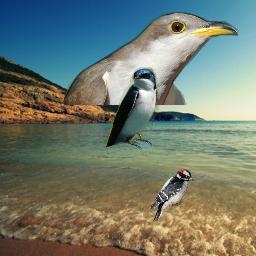Cuckoo: (64, 12, 238, 105)
Swallow: (106, 67, 159, 150)
Woodpecker: (150, 169, 197, 223)
